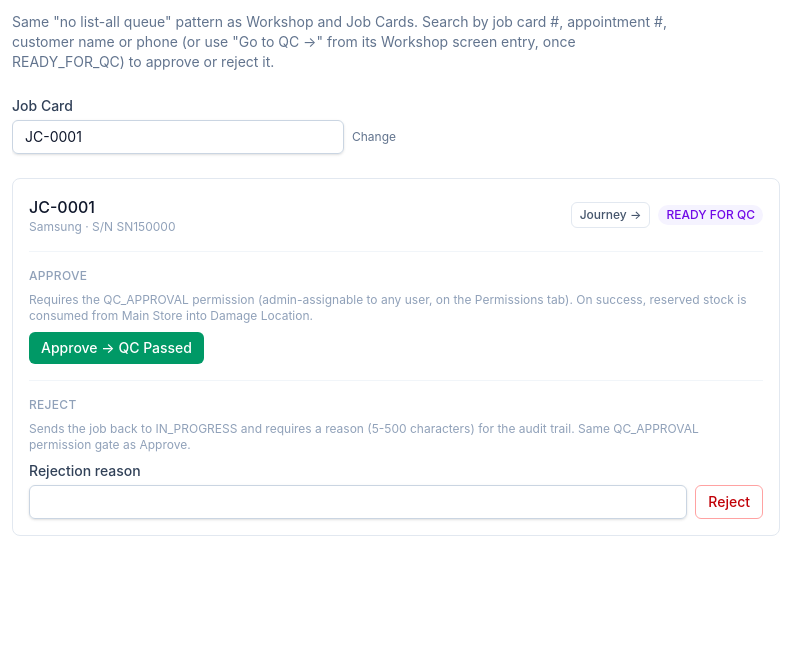
Test: QcPage - Approve (the-fool pre-mortem finding #2: structured 409 blockers) › renders each blocker from a 409 stock-shortfall response, not just the raw message
Click the button "Approve → QC Passed".
click(116, 348)  # box 29,332 -> 204,364
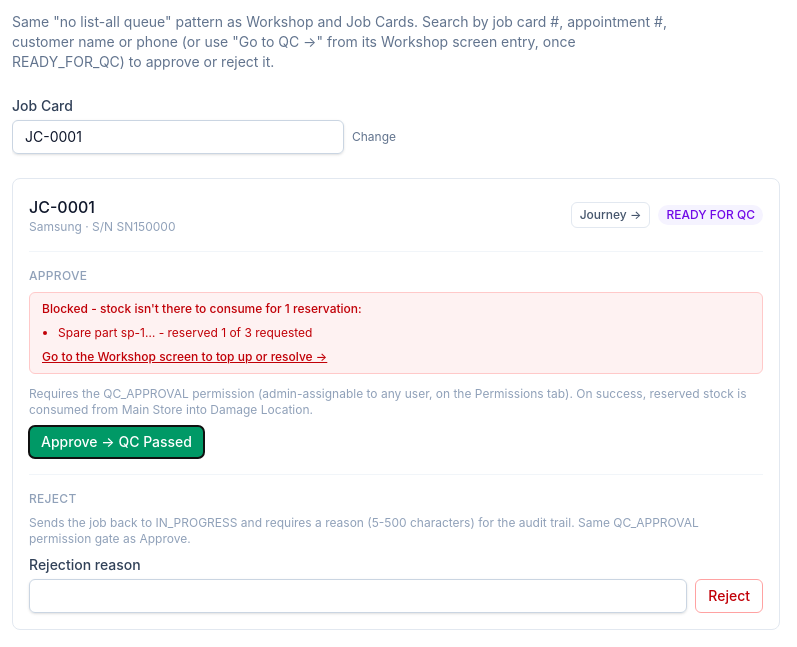
Now the text "Blocked - stock isn't there to consume for 1 reservation:" is shown, box 42,301 -> 362,316
Now the list item "Spare part sp-1… - reserved 1 of 3 requested" is shown, box 58,325 -> 312,340
Now the link "Go to the Workshop screen to top up or resolve →" is shown, box 42,349 -> 327,364
